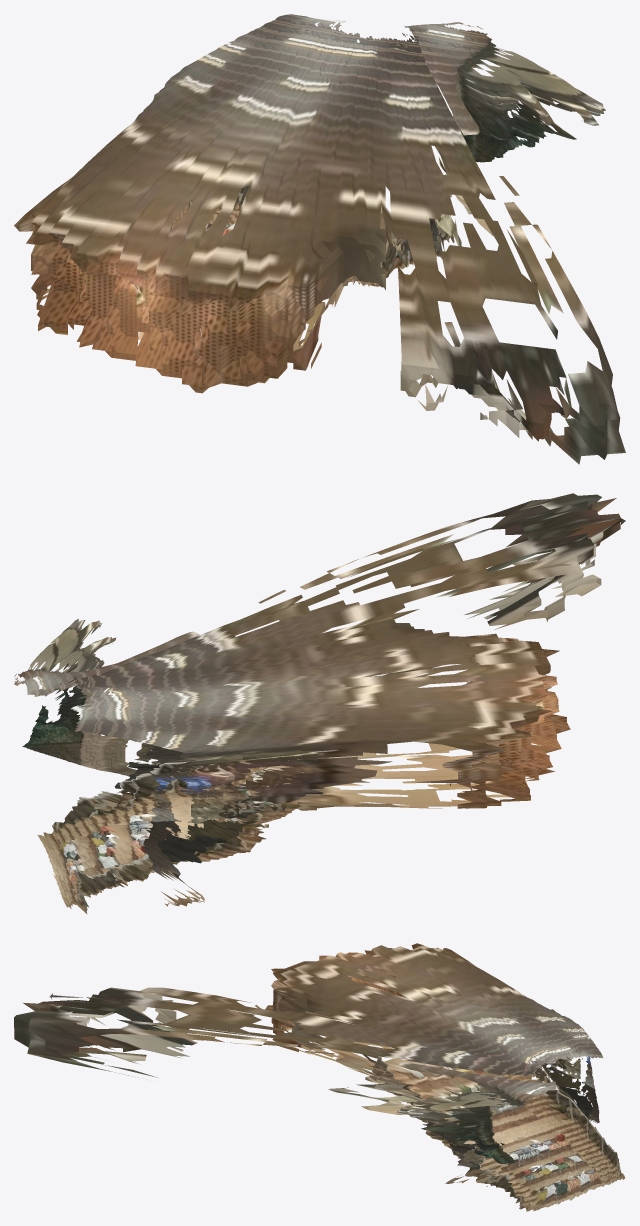
Rendered from b05-atlas-depth-study.glb.
3 renders of one model, top to bottom at view 1: azimuth 30°, elevation 25°; view 2: azimuth 150°, elevation 25°; view 3: azimuth 270°, elevation 25°, orthographic. The views are drawn at different scales.
Visible parts, largest first — view 1: Observed_Frame_3, Observed_Frame_4, Observed_Frame_1, Observed_Frame_2; view 2: Observed_Frame_3, Observed_Frame_1, Observed_Frame_4, Observed_Frame_2; view 3: Observed_Frame_3, Observed_Frame_4, Observed_Frame_1, Observed_Frame_2.
Part boxes in pixels (x1,y1,x2,y2): Observed_Frame_3: (14, 14, 566, 441); Observed_Frame_4: (298, 22, 625, 464); Observed_Frame_1: (188, 184, 454, 286); Observed_Frame_2: (138, 200, 442, 350); Observed_Frame_3: (60, 508, 621, 855); Observed_Frame_1: (37, 745, 266, 913); Observed_Frame_4: (14, 493, 625, 776); Observed_Frame_2: (111, 743, 497, 906); Observed_Frame_3: (38, 943, 602, 1145); Observed_Frame_4: (14, 993, 557, 1163); Observed_Frame_1: (422, 1086, 625, 1211); Observed_Frame_2: (301, 1023, 606, 1186).
Size of the model in its own units: 15.57 by 5.91 by 23.58.
4 materials, 4 textured.
